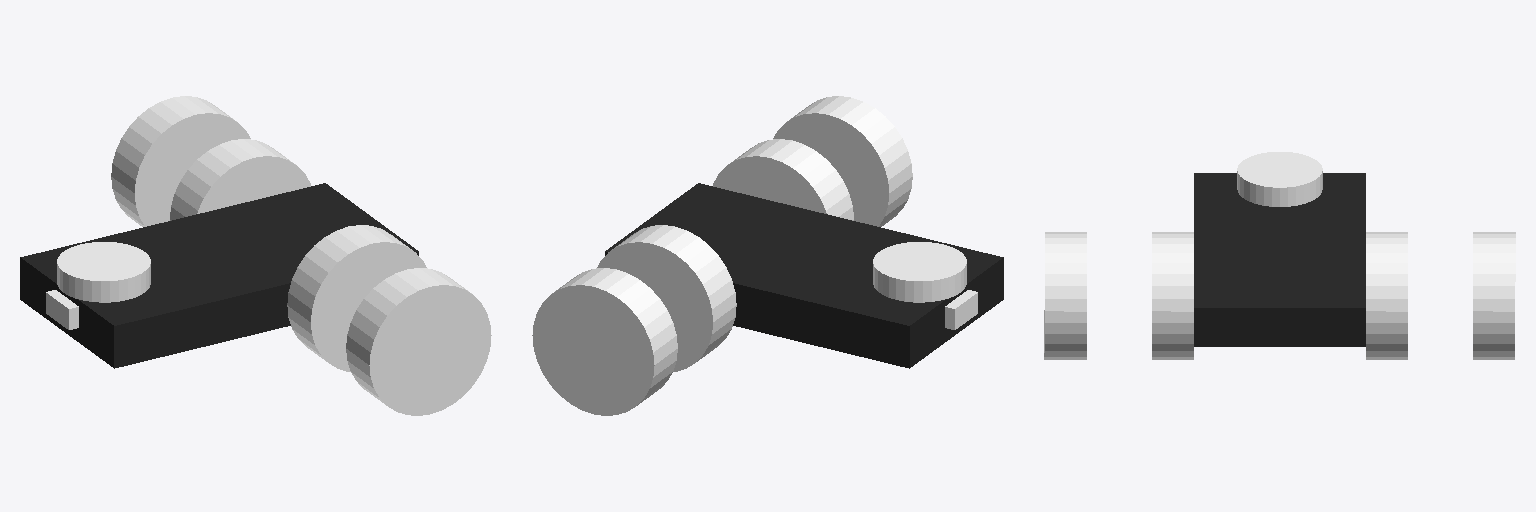
The robot description file, URDF, robot "four_wheeled_robot":
<?xml version="1.0" ?>

<robot name = "four_wheeled_robot">

    <link name="base">
        <visual>
        <geometry>
            <box size="0.75 0.4 0.1"/>
        </geometry>
        <material name="gray">
            <color rgba=".2 .2 .2 1" />
        </material>
        </visual>

        <inertial>
            <mass value="1" />
            <inertia ixx="0.01" ixy="0.0" ixz="0" iyy="0.01" iyz="0" izz="0.01" />
        </inertial>

        <collision>
        <geometry>
            <box size="0.75 0.4 0.1"/>
        </geometry>
        </collision>

    </link>

    <link name="wheel_right_link">
        <inertial>
                <mass value="2" />
                <inertia ixx="0.01" ixy="0.0" ixz="0" 
                iyy="0.01" iyz="0" izz="0.01" />
        </inertial>
    
        <visual>
            <geometry>
              <cylinder radius="0.15" length="0.1"/>
            </geometry>
            <material name="white">
            <color rgba="1 1 1 1"/>
            </material>
        </visual>
    
        <collision>        
            <geometry>
              <cylinder radius="0.15" length="0.1"/>
            </geometry>
          <contact_coefficients mu="1" kp="1e+13" kd="1.0"/>
        </collision>
    </link>
    
    <joint name="wheel_right_joint" type="continuous">
        <origin xyz="0.2 0.25 0.0" rpy="1.57 0.0 0.0"/>
        <parent link="base"/>
        <child link="wheel_right_link"/>
        <axis xyz="0.0 0.0 1.0"/>
    </joint>
    
    
    
    <link name="wheel_left_link">
        <inertial>
            <mass value="2" />
            <inertia ixx="0.01" ixy="0.0" ixz="0" 
                iyy="0.01" iyz="0" izz="0.01" />
        </inertial>
    
        <visual>          
          <geometry>
              <cylinder radius="0.15" length="0.1"/>
          </geometry>
          <material name="white">
            <color rgba="1 1 1 1"/>
          </material>
        </visual>
    
        <collision>
          <geometry>
              <cylinder radius="0.15" length="0.1"/>
          </geometry>
          <contact_coefficients mu="1" kp="1e+13" kd="1.0"/>
        </collision>
    </link>
    
    <joint name="wheel_left_joint" type="continuous">
        <origin xyz="0.2 -0.25 0.0" rpy="1.57 0.0 0.0"/>
        <parent link="base"/>
        <child link="wheel_left_link"/>
        <axis xyz="0.0 0.0 1.0"/>    
    </joint>
    


<link name="wheel_right_front_link">
    <inertial>
            <mass value="2" />
            <inertia ixx="0.01" ixy="0.0" ixz="0" 
            iyy="0.01" iyz="0" izz="0.01" />
    </inertial>

    <visual>
        <geometry>
          <cylinder radius="0.15" length="0.1"/>
        </geometry>
        <material name="white">
        <color rgba="1 1 1 1"/>
        </material>
    </visual>

    <collision>        
        <geometry>
          <cylinder radius="0.15" length="0.1"/>
        </geometry>
      <contact_coefficients mu="1" kp="1e+13" kd="1.0"/>
    </collision>
</link>

<joint name="wheel_right_front_joint" type="continuous">
    <origin xyz="0.2 0.50 0.0" rpy="1.57 0.0 0.0"/>
    <parent link="base"/>
    <child link="wheel_right_front_link"/>
    <axis xyz="0.0 0.0 1.0"/>
</joint>



<link name="wheel_left_front_link">
    <inertial>
        <mass value="2" />
        <inertia ixx="0.01" ixy="0.0" ixz="0" 
            iyy="0.01" iyz="0" izz="0.01" />
    </inertial>

    <visual>          
      <geometry>
          <cylinder radius="0.15" length="0.1"/>
      </geometry>
      <material name="white">
        <color rgba="1 1 1 1"/>
      </material>
    </visual>

    <collision>
      <geometry>
          <cylinder radius="0.15" length="0.1"/>
      </geometry>
      <contact_coefficients mu="1" kp="1e+13" kd="1.0"/>
    </collision>
</link>

<joint name="wheel_left_front_joint" type="continuous">
    <origin xyz="0.2 -0.50 0.0" rpy="1.57 0.0 0.0"/>
    <parent link="base"/>
    <child link="wheel_left_front_link"/>
    <axis xyz="0.0 0.0 1.0"/>    
</joint>
    

     
    <link name="camera">
        <inertial>
                <mass value="0.1" />
                <inertia ixx="0.01" ixy="0.0" ixz="0" 
                iyy="0.01" iyz="0" izz="0.01" />
        </inertial>
    
        <visual>          
          <geometry>
            <box size="0.1 0.1 0.05"/>
          </geometry>
          <material name="white">
            <color rgba="1 1 1 1"/>
          </material>
        </visual>

        <collision>
          <geometry>
              <box size="0.1 0.1 0.05"/>
          </geometry>
        </collision>
    </link>
    
    <joint name="camera_joint" type="fixed">
        <origin xyz="-0.35 0 0.01" rpy="0 0.0 3.14"/>
        <parent link="base"/>
        <child link="camera"/>
        <axis xyz="0.0 0.0 1.0"/>    
    </joint>
    
    <link name="lidar">
        <inertial>
                <mass value="0.5" />
                <inertia ixx="0.01" ixy="0.0" ixz="0" 
                iyy="0.01" iyz="0" izz="0.01" />
        </inertial>
    
        <visual>          
          <geometry>
            <cylinder radius="0.1" length="0.05"/>
          </geometry>
          <material name="white">
            <color rgba="1 1 1 1"/>
          </material>
        </visual>
    
        <collision>
          <geometry>
              <box size="0.1 0.1 0.1"/>
          </geometry>
        </collision>
    </link>
    
    <joint name="lidar_joint" type="fixed">
        <origin xyz="-0.285 0 0.075" rpy="0 0.0 1.57"/>
        <parent link="base"/>
        <child link="lidar"/>
        <axis xyz="0.0 0.0 1.0"/>
    
    </joint> 

    <!--http://wiki.ros.org/simulator_gazebo/Tutorials/ListOfMaterials-->
    <gazebo reference="base">
        <material>Gazebo/WhiteGlow</material>
    </gazebo> 
    <gazebo reference="wheel_left_link">
        <material>Gazebo/SkyBlue</material>
    </gazebo> 
    <gazebo reference="wheel_right_link">
        <material>Gazebo/SkyBlue </material>
    </gazebo> 
    <gazebo reference="wheel_right_front_link">
        <material>Gazebo/SkyBlue </material>
    </gazebo> 
    <gazebo reference="wheel_left_front_link">
        <material>Gazebo/SkyBlue </material>
    </gazebo> 
    <gazebo reference="lidar">
        <material>Gazebo/Blue</material>
    </gazebo> 
    <gazebo reference="camera">
        <material>Gazebo/Red</material>
    </gazebo> 
    
    
  
    <!-- differential robot-->
    <gazebo>
        <plugin filename="libgazebo_ros_diff_drive.so" name="gazebo_base_controller">
          <odometry_frame>odom</odometry_frame>
          <commandTopic>cmd_vel</commandTopic>
          <publish_odom>true</publish_odom>
          <publish_odom_tf>true</publish_odom_tf>
          <update_rate>15.0</update_rate>
    
          <left_joint>wheel_left_joint</left_joint>
          <right_joint>wheel_right_joint</right_joint>
          
          <wheel_separation>0.5</wheel_separation>
          <wheel_diameter>0.3</wheel_diameter>
          <max_wheel_acceleration>0.7</max_wheel_acceleration>
          <max_wheel_torque>8</max_wheel_torque>
          <robotBaseFrame>base</robotBaseFrame>
        </plugin>
    </gazebo>
    
    <!-- camera plugin-->
    <gazebo reference="camera">
      <sensor type="camera" name="camera1">
        <visualize>true</visualize>
        <update_rate>30.0</update_rate>
        <camera name="head">
          <horizontal_fov>1.3962634</horizontal_fov>
          <image>
            <width>800</width>
            <height>800</height>
            <format>R8G8B8</format>
          </image>
          <clip>
            <near>0.02</near>
            <far>300</far>
          </clip>
        </camera>
        <plugin name="camera_controller" filename="libgazebo_ros_camera.so">
          <alwaysOn>true</alwaysOn>
          <updateRate>60.0</updateRate>
          <cameraName>/camera1</cameraName>
          <imageTopicName>image_raw</imageTopicName>
          <cameraInfoTopicName>info_camera</cameraInfoTopicName>
          <frameName>camera</frameName>
          <hackBaseline>0.07</hackBaseline>
        </plugin>
      </sensor>
    </gazebo>
    
    <!--lidar plugin-->
    <gazebo reference="lidar">
      <sensor name="lidar" type="ray">
       <visualize>true</visualize>
        <update_rate>12.0</update_rate>
        <plugin filename="libgazebo_ros_ray_sensor.so" name="gazebo_lidar">    
        <output_type>sensor_msgs/LaserScan</output_type>
        <frame_name>lidar</frame_name>
        </plugin>
        <ray>
          <scan>
            <horizontal>
              <samples>360</samples>
              <resolution>1</resolution>
              <min_angle>0.00</min_angle>
              <max_angle>3.14</max_angle>
            </horizontal>
          </scan>
          <range>
            <min>0.120</min>
            <max>3.5</max>
            <resolution>0.015</resolution>
          </range>
        </ray>
      </sensor>
    </gazebo>

</robot>

--- Facts derived from the render (not from the file) ---
Views: 3 orthographic renders of the robot side by side, from view 1: azimuth 30°, elevation 25°; view 2: azimuth 150°, elevation 25°; view 3: azimuth 270°, elevation 25°.
Model four_wheeled_robot with 7 links and 6 joints (4 continuous, 2 fixed), rooted at base, posed every joint at zero.
Visible links, largest first — view 1: base, wheel_left_front_link, wheel_left_link, wheel_right_front_link, wheel_right_link, lidar, camera; view 2: base, wheel_right_front_link, wheel_right_link, wheel_left_front_link, wheel_left_link, lidar, camera; view 3: base, wheel_right_front_link, wheel_left_front_link, wheel_right_link, wheel_left_link, lidar.
Link boxes in pixels (x1,y1,x2,y2): base: [20, 183, 418, 368]; wheel_left_front_link: [346, 268, 491, 415]; wheel_left_link: [287, 225, 426, 371]; wheel_right_front_link: [111, 96, 250, 226]; wheel_right_link: [170, 139, 310, 220]; lidar: [57, 242, 150, 302]; camera: [46, 290, 78, 329]; base: [605, 183, 1003, 368]; wheel_right_front_link: [532, 268, 677, 415]; wheel_right_link: [597, 225, 736, 371]; wheel_left_front_link: [773, 96, 912, 226]; wheel_left_link: [713, 139, 853, 220]; lidar: [873, 242, 966, 302]; camera: [945, 290, 977, 329]; base: [1194, 173, 1365, 346]; wheel_right_front_link: [1473, 232, 1515, 359]; wheel_left_front_link: [1044, 232, 1086, 359]; wheel_right_link: [1366, 232, 1407, 359]; wheel_left_link: [1152, 232, 1193, 359]; lidar: [1237, 152, 1322, 206].
Size in the robot's own frame: 0.7751 by 1.1 by 0.3001 metres.
Geometry: primitives only (box / cylinder / sphere), no mesh files.
